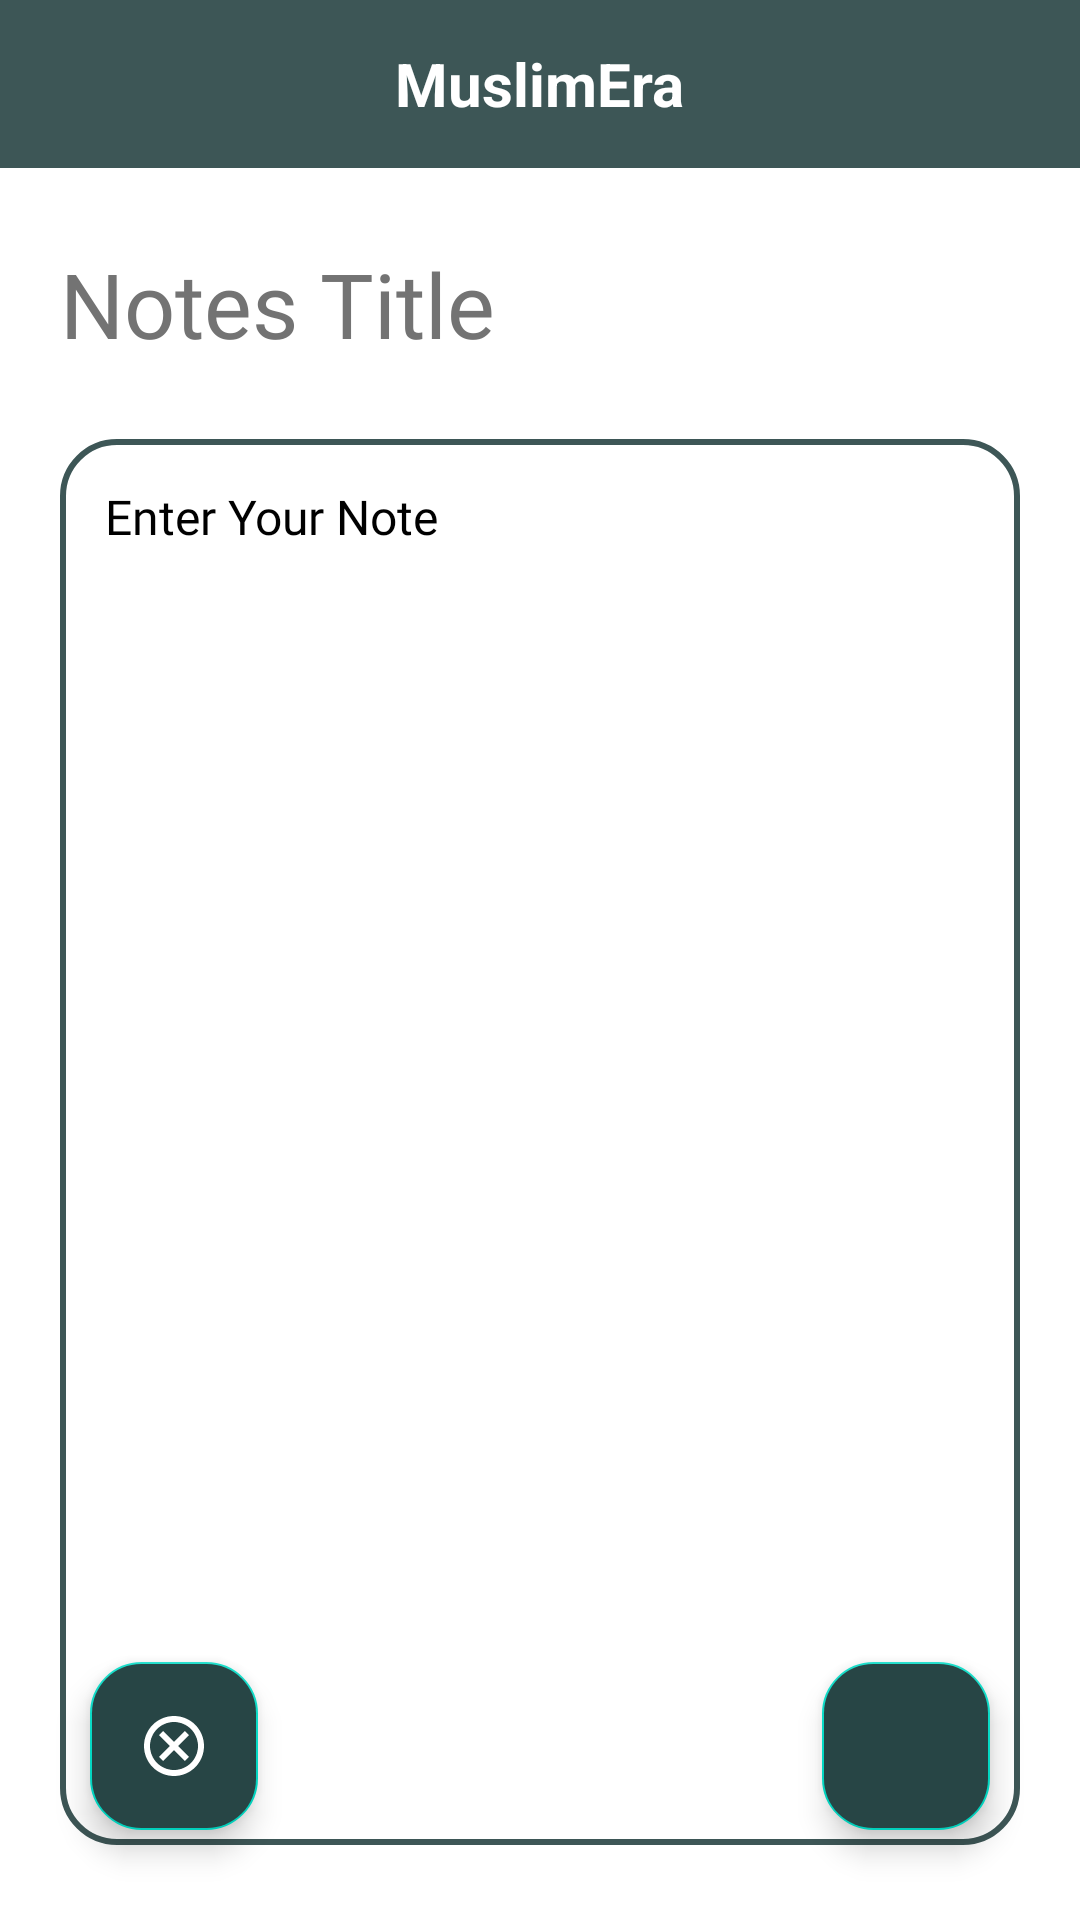

Where to tap for icons on this 1080px×1920px app screen, as [x,y]:
cancel: [174,1746]
